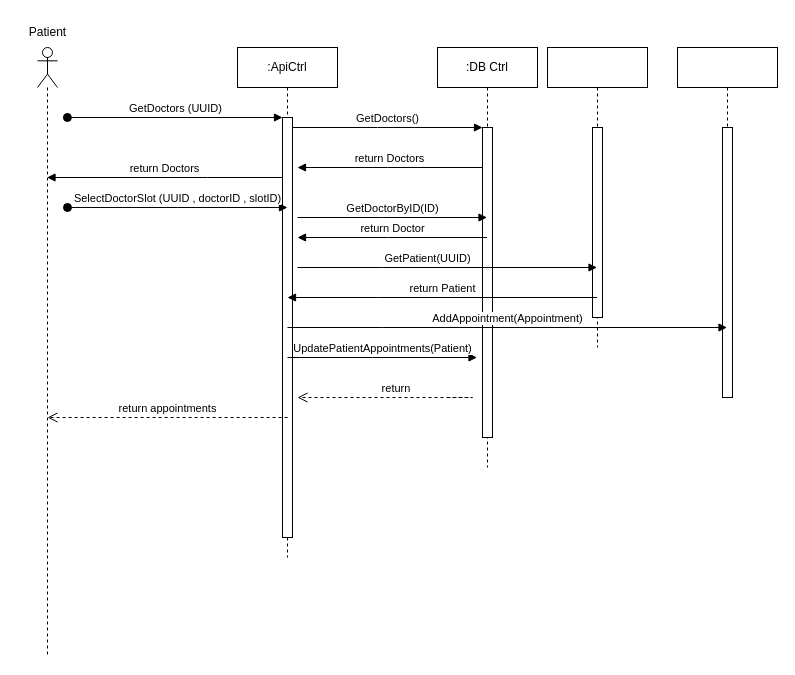
This 795x675 diagram has some shape labels left out. The box of each missing label's shape, as (x1, y1, x2, y2) in pixels:
:Active DB: (546, 46, 648, 348)
:Patient: (676, 46, 778, 398)
